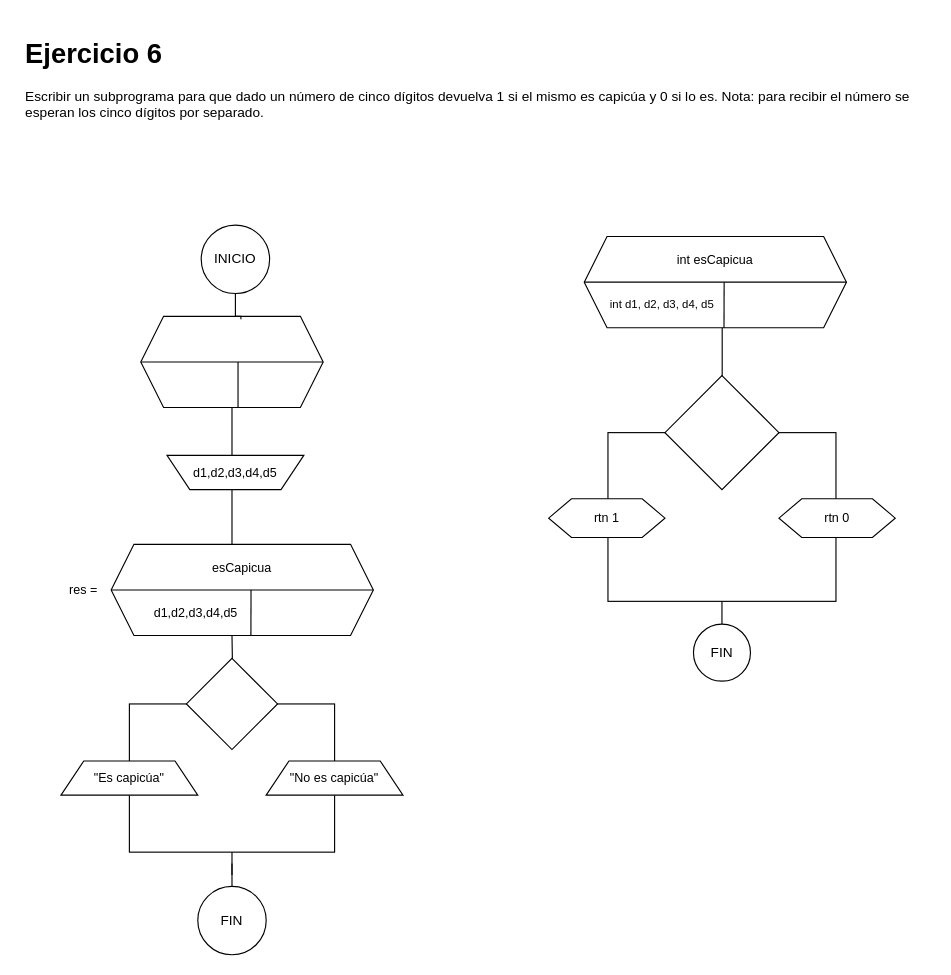
Image size: 951x975. Some labels were removed from this diagram. The centre of each missing label's shape, as x and y in pixels:
"d1 == d5 && d2 == d4" belongs at (721,432).
"res" belongs at (231,703).
"void main" belongs at (231,361).
